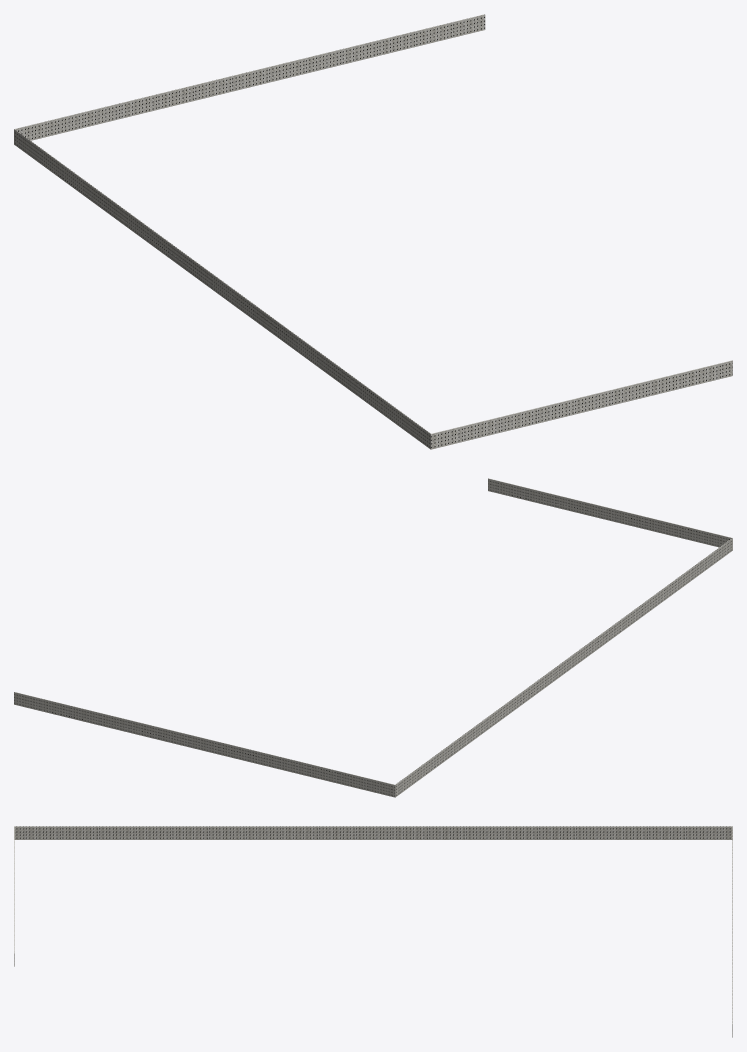
The model's file is BP_MarbleBiancoGioiaPinwheelMosaic.glb.
3 renders of one model, top to bottom at view 1: azimuth 30°, elevation 25°; view 2: azimuth 150°, elevation 25°; view 3: azimuth 270°, elevation 25°, orthographic. The views are drawn at different scales.
Parts seen in each view (by area): view 1: BP_Marble Bianco Gioia Pinwheel Mosaic; view 2: BP_Marble Bianco Gioia Pinwheel Mosaic; view 3: BP_Marble Bianco Gioia Pinwheel Mosaic.
Part boxes in pixels (x1,y1,x2,y2): BP_Marble Bianco Gioia Pinwheel Mosaic: [14, 14, 732, 449]; BP_Marble Bianco Gioia Pinwheel Mosaic: [14, 478, 732, 797]; BP_Marble Bianco Gioia Pinwheel Mosaic: [14, 826, 732, 1037].
Bounding box in the file's own units: 6.39 × 0.2 × 9.8.
1 material, 1 textured.
